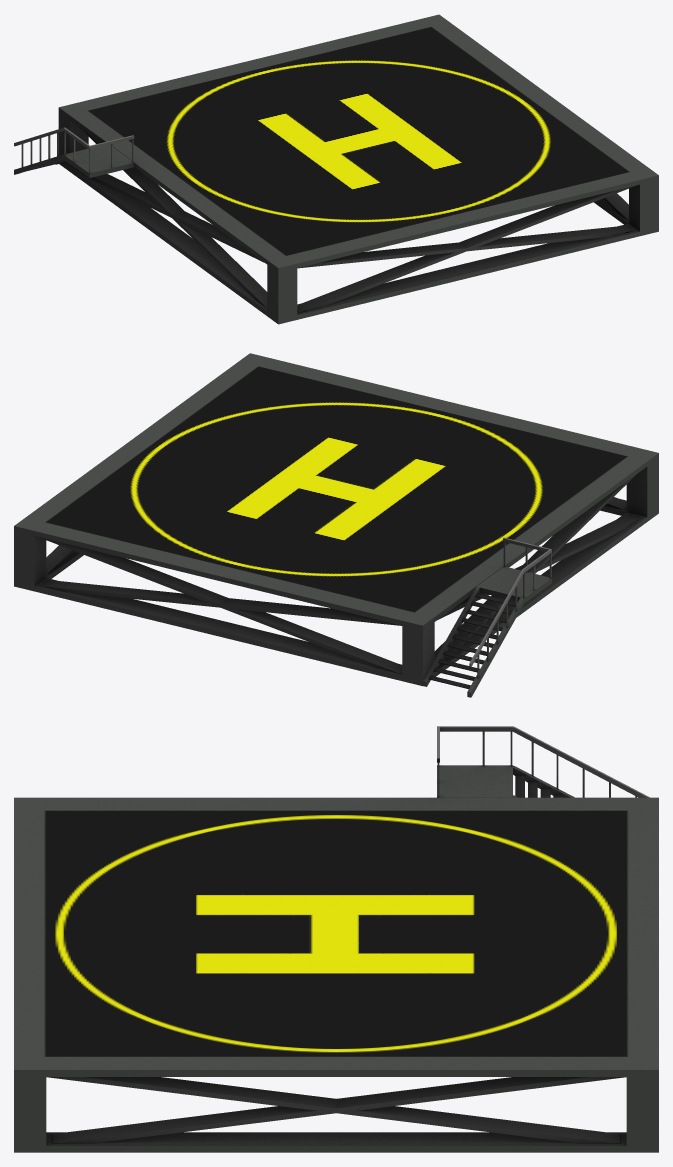
File: Helipad.fbx
The picture shows the model from 3 angles, top to bottom: view 1: azimuth 30°, elevation 25°; view 2: azimuth 150°, elevation 25°; view 3: azimuth 270°, elevation 25°; orthographic projection. The views are drawn at different scales.
Visible parts, largest first — view 1: Helipad; view 2: Helipad; view 3: Helipad.
Boxes of the visible parts, x1,y1,x2,y2 form: Helipad: [14, 14, 658, 324]; Helipad: [14, 353, 658, 697]; Helipad: [14, 726, 658, 1152].
Size of the model in its own units: 49.43 by 9.22 by 44.24.
